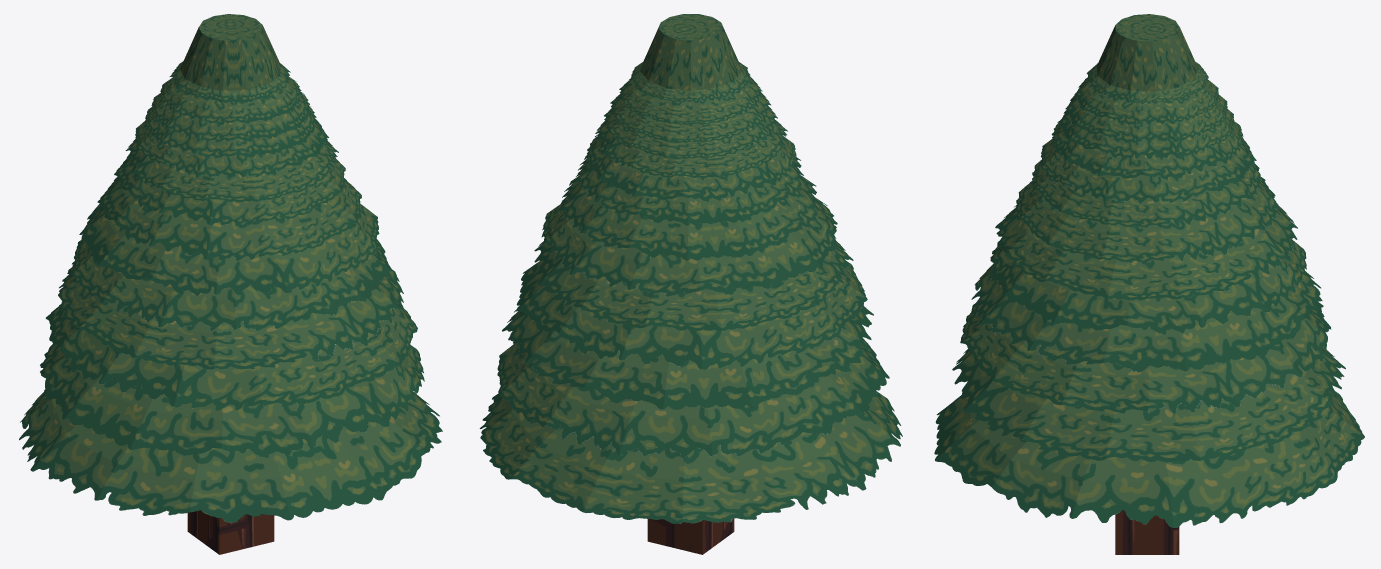
Rendered from PINHEIRO (1) 1.fbx.
The picture shows the model from 3 angles, left to right: view 1: azimuth 30°, elevation 25°; view 2: azimuth 150°, elevation 25°; view 3: azimuth 270°, elevation 25°; orthographic projection.
Parts seen in each view (by area): view 1: Circle.004; view 2: Circle.004; view 3: Circle.004.
Boxes of the visible parts, x1,y1,x2,y2 form: Circle.004: (19,14,442,554); Circle.004: (479,14,902,554); Circle.004: (934,14,1364,554).
Size of the model in its own units: 1023 by 1330 by 1015.
